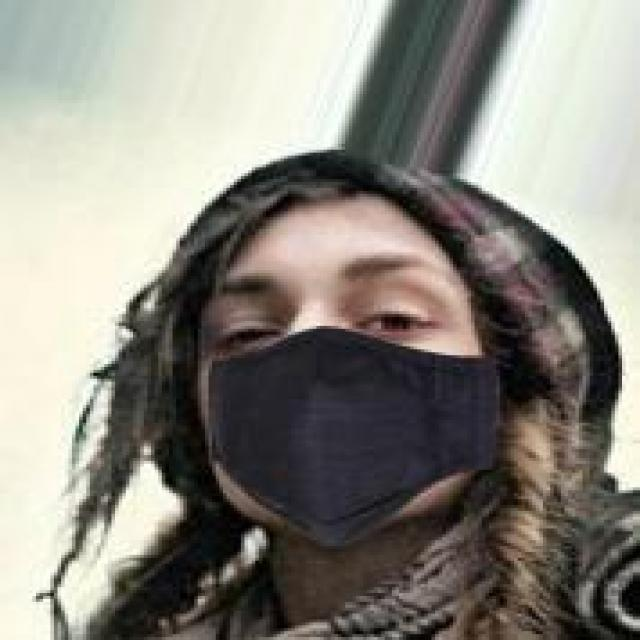mask: (72, 150, 597, 549)
